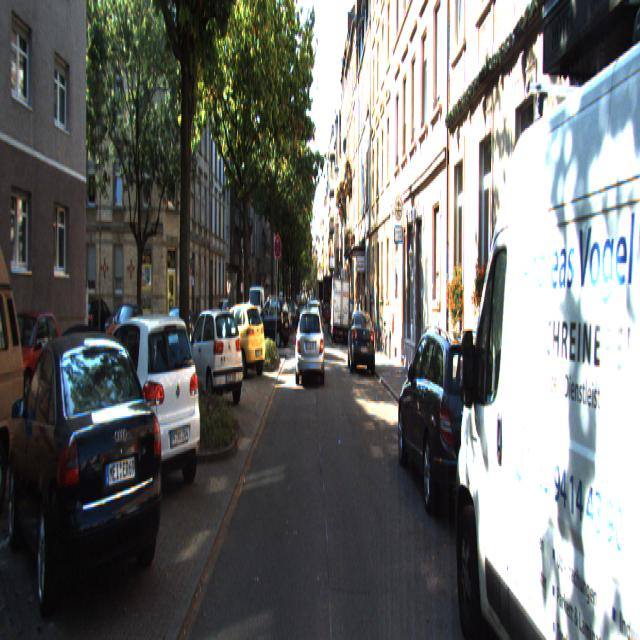Car: (449, 0, 639, 639), (12, 326, 170, 638), (401, 321, 521, 546), (83, 308, 206, 513), (0, 213, 34, 495), (177, 308, 246, 411), (0, 309, 66, 398), (213, 302, 268, 382), (154, 306, 196, 378), (103, 302, 149, 362), (296, 303, 325, 381), (253, 295, 291, 348), (347, 310, 376, 378), (330, 274, 350, 340), (305, 300, 324, 358)
